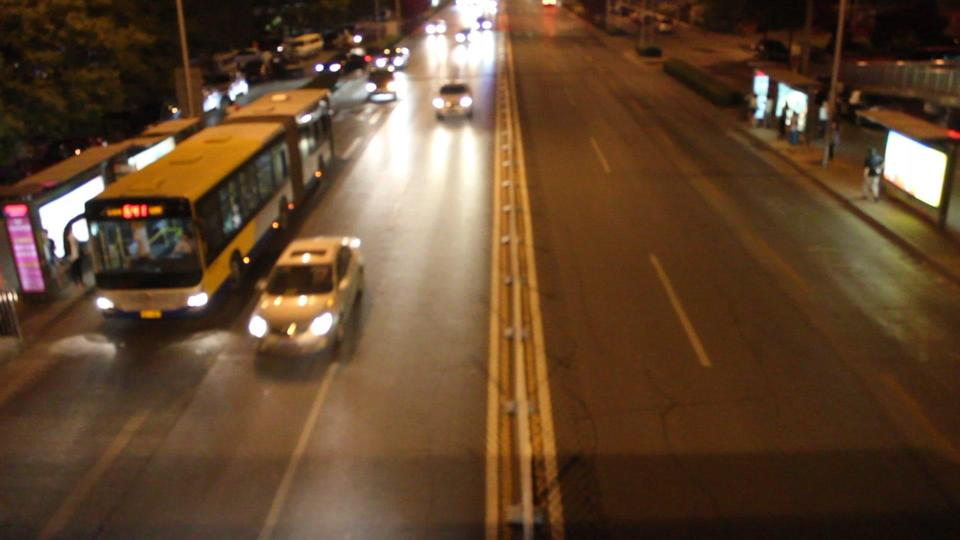bus: (61, 88, 336, 320)
car: (249, 235, 364, 358), (432, 83, 475, 119), (365, 69, 400, 101), (374, 47, 410, 72), (315, 54, 350, 72), (423, 17, 448, 34), (455, 28, 475, 46)
microbus: (283, 31, 323, 58)
